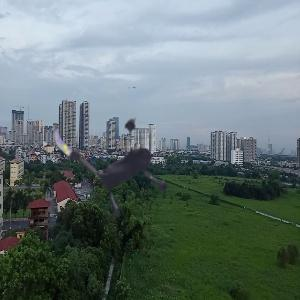drone: (49, 82, 197, 230)
